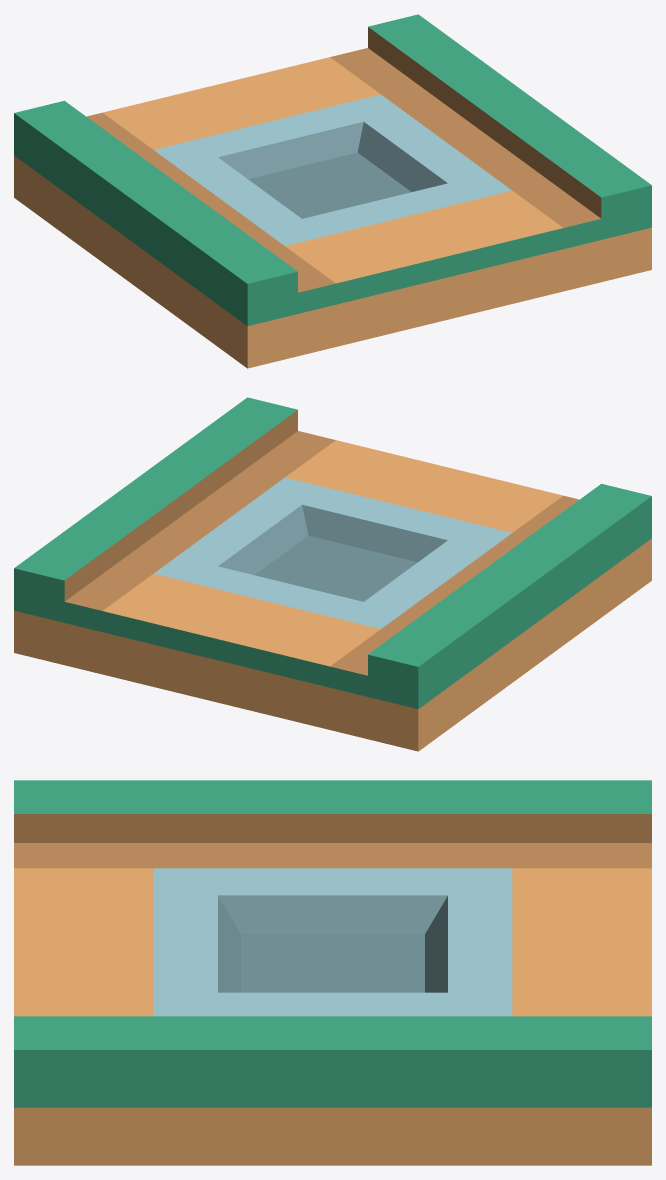
Rendered from tile_spawn.dae.
3 renders of one model, top to bottom at view 1: azimuth 30°, elevation 25°; view 2: azimuth 150°, elevation 25°; view 3: azimuth 270°, elevation 25°, orthographic. The views are drawn at different scales.
Visible parts, largest first — view 1: tile_spawn; view 2: tile_spawn; view 3: tile_spawn.
Boxes of the visible parts, bbox=[...] form: tile_spawn: bbox=[14, 14, 651, 368]; tile_spawn: bbox=[14, 397, 651, 751]; tile_spawn: bbox=[14, 780, 651, 1165].
Size of the model in its own units: 1 by 0.2 by 1.
